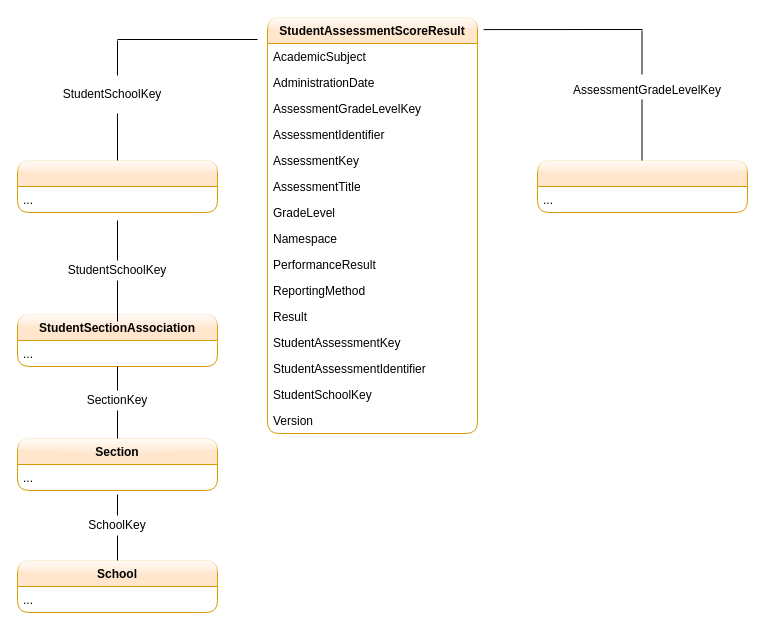
The diagram is 765 pixels wide and 633 high, and some of its shapes have lost their labels. The box of each missing label's shape, as (x1, y1, x2, y2) in pixels:
Assessment: (536, 160, 748, 212)
Student: (16, 160, 218, 212)
